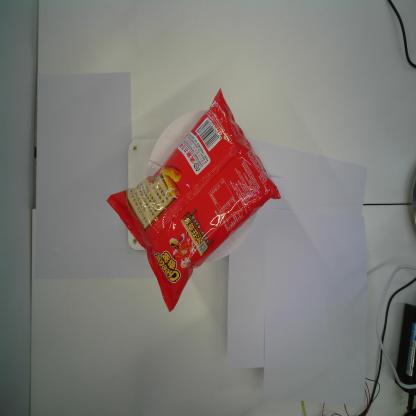Puffed Food: (104, 86, 282, 315)
